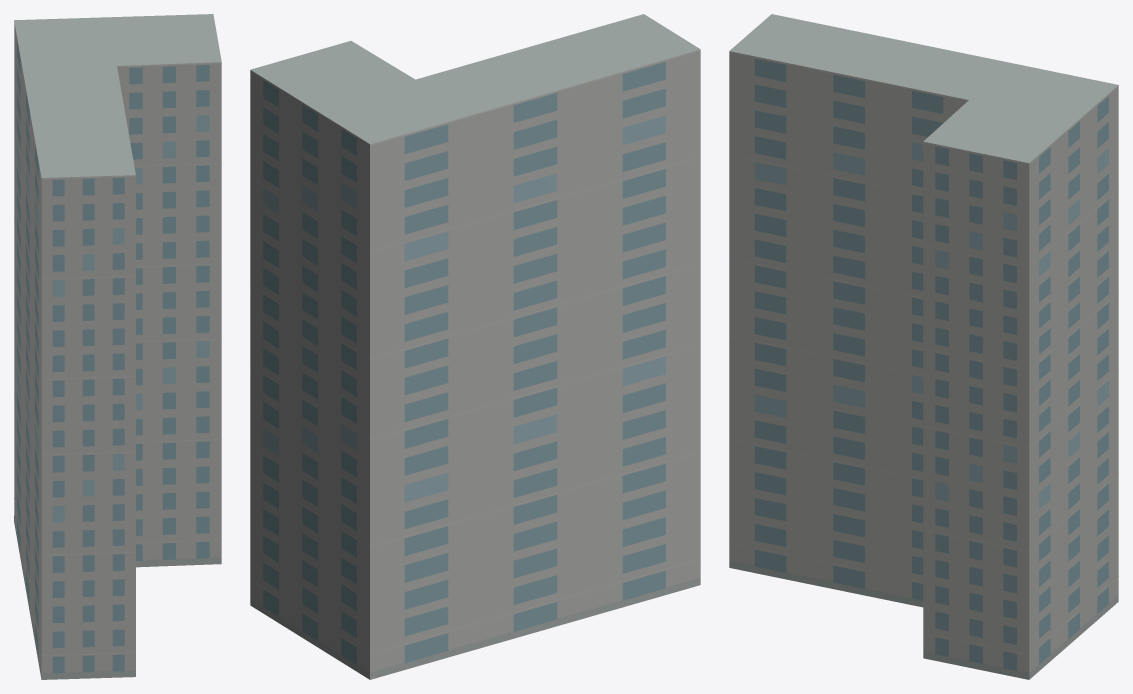
File: residential-ad5c57ba-df00-461f-b293-007de5b25ab4.glb
3 views of the same model, side by side, from view 1: azimuth 30°, elevation 25°; view 2: azimuth 150°, elevation 25°; view 3: azimuth 270°, elevation 25° (orthographic). The views are drawn at different scales.
Parts seen in each view (by area): view 1: residential-ad5c57ba-df00-461f-b293-007de5b25ab4.tmp; view 2: residential-ad5c57ba-df00-461f-b293-007de5b25ab4.tmp; view 3: residential-ad5c57ba-df00-461f-b293-007de5b25ab4.tmp.
Part boxes in pixels (x1=…): residential-ad5c57ba-df00-461f-b293-007de5b25ab4.tmp: x1=14, y1=14, x2=221, y2=679; residential-ad5c57ba-df00-461f-b293-007de5b25ab4.tmp: x1=250, y1=14, x2=700, y2=679; residential-ad5c57ba-df00-461f-b293-007de5b25ab4.tmp: x1=729, y1=14, x2=1118, y2=679.
Size of the model in its own units: 55.75 by 90 by 61.51.
